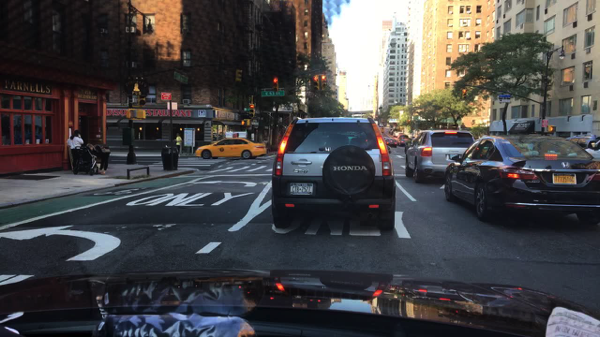car: (271, 116, 396, 233), (445, 134, 598, 228), (404, 130, 476, 184), (194, 131, 267, 160), (566, 134, 599, 149), (584, 140, 599, 163), (404, 140, 418, 154), (397, 134, 408, 145), (386, 137, 397, 148), (400, 138, 412, 147), (391, 130, 399, 136), (390, 128, 396, 134), (396, 132, 403, 137), (379, 127, 384, 133), (379, 123, 385, 127), (388, 128, 391, 133)
person: (86, 143, 112, 175), (68, 129, 84, 174), (175, 132, 183, 158), (262, 137, 269, 155)
traffic light: (235, 68, 243, 83), (321, 74, 328, 91), (138, 94, 147, 106), (272, 77, 279, 92), (313, 74, 319, 91), (137, 110, 147, 120), (125, 109, 134, 120), (249, 103, 255, 118), (548, 124, 557, 134), (462, 88, 467, 99), (246, 119, 252, 127), (241, 119, 246, 126)
traffic sign: (174, 71, 189, 85), (260, 91, 285, 96), (160, 91, 171, 101), (167, 103, 178, 110)
